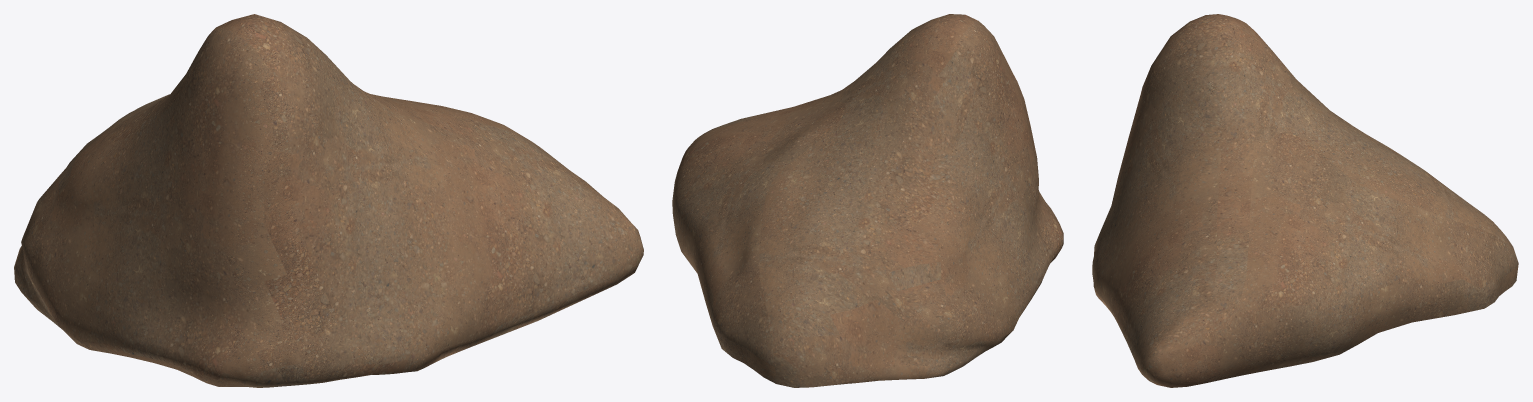
Rendered from SM_Block_Ground.005.fbx.
3 renders of one model, left to right at view 1: azimuth 30°, elevation 25°; view 2: azimuth 150°, elevation 25°; view 3: azimuth 270°, elevation 25°, orthographic. The views are drawn at different scales.
Visible parts, largest first — view 1: SM_Block_Ground.005; view 2: SM_Block_Ground.005; view 3: SM_Block_Ground.005.
Part boxes in pixels (bbox=[...]): SM_Block_Ground.005: bbox=[14, 14, 643, 387]; SM_Block_Ground.005: bbox=[672, 14, 1063, 387]; SM_Block_Ground.005: bbox=[1092, 14, 1518, 387].
Size of the model in its own units: 5.82 by 3.91 by 5.76.
